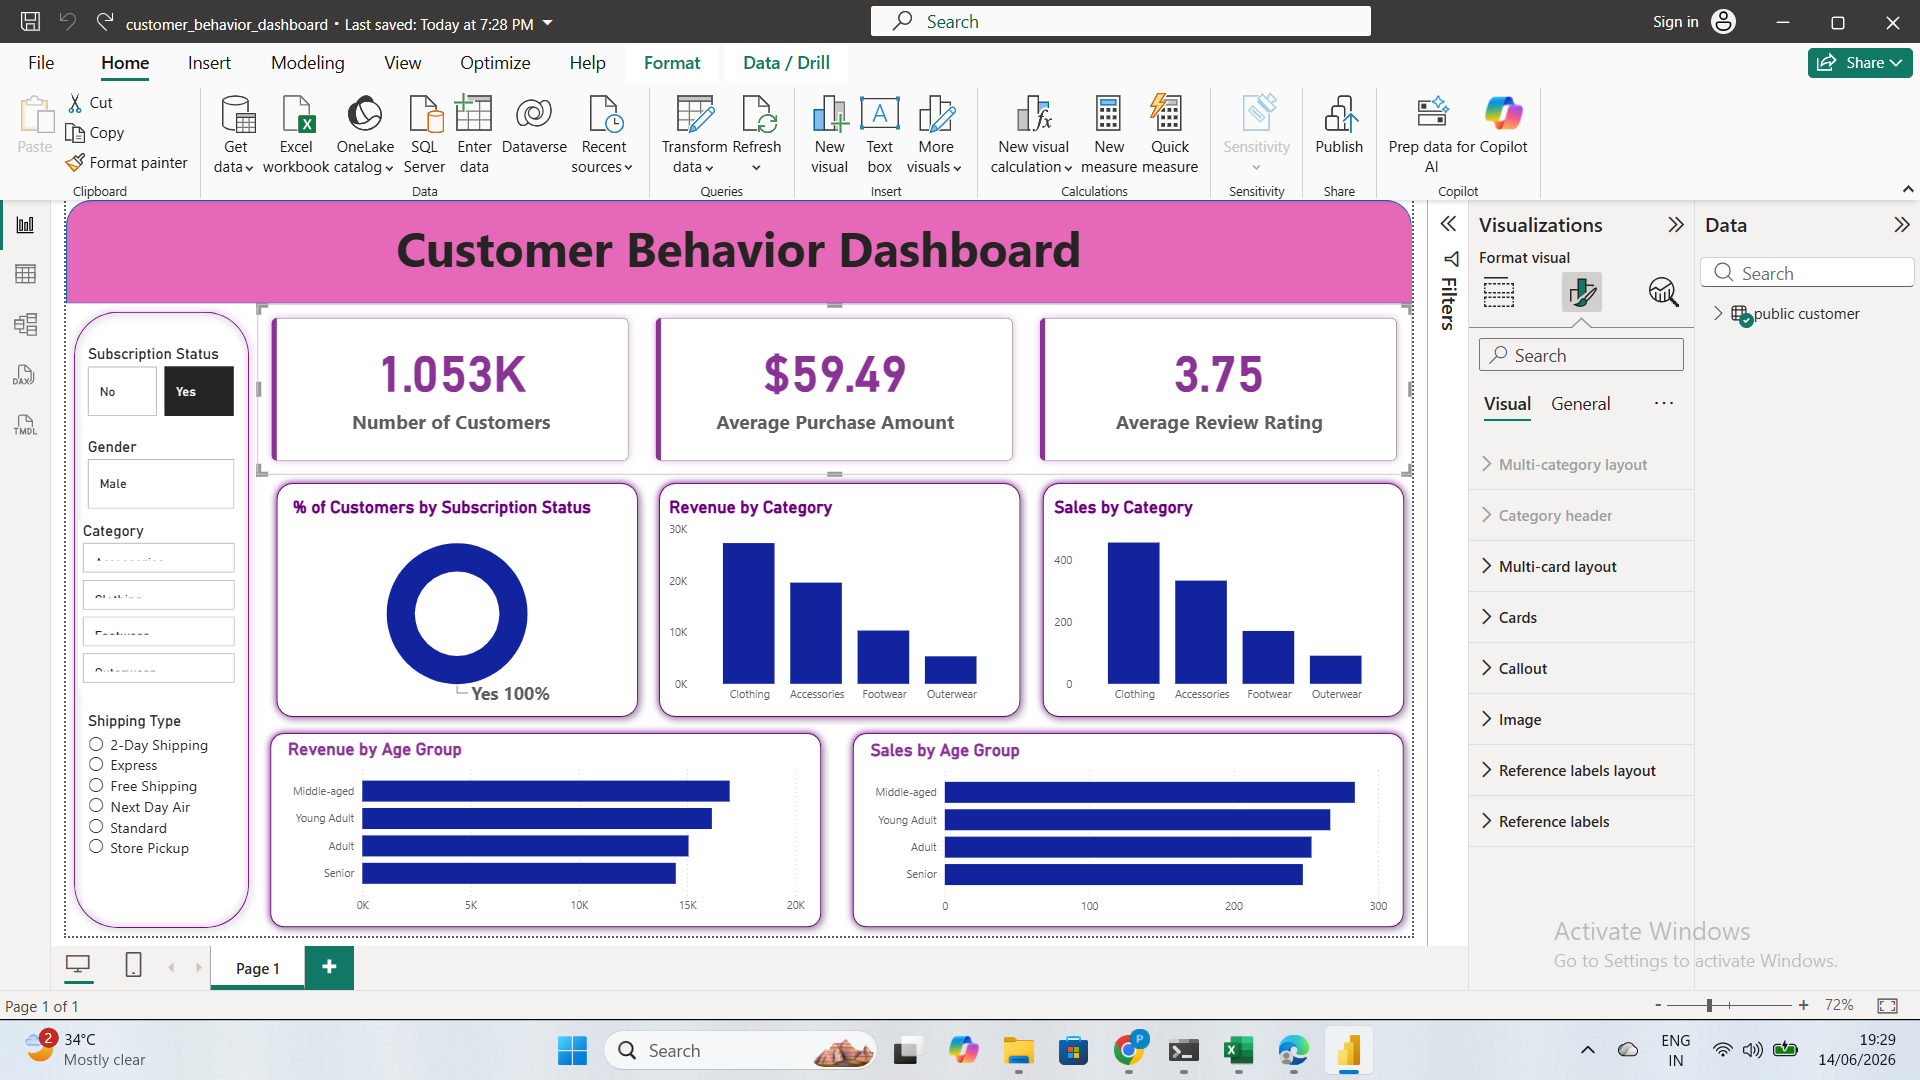

The page's visual inventory and layout, read from the dashboard file:
{"tool":"powerbi","page":{"name":"Page 1","canvas":[1500,820],"ordinal":0},"visuals":[{"type":"cardVisual","fields":{"Data":["public customer.Number of Customers","public customer.Average Purchase Amount","public customer.Average Review Rating"]},"box":[212.9,115.3,1286.5,191.6],"z":2000},{"type":"shape","box":[218.3,585.6,631.7,234.2],"z":2500,"group":"g1"},{"type":"shape","box":[0,0,1499.4,115.3],"z":3000},{"type":"textbox","box":[0,12.4,1499.4,102.9],"z":4000},{"type":"shape","box":[225.4,307,420.5,278.6],"z":5000},{"type":"donutChart","title":"% of Customers by Subscription Status","fields":{"Category":["public customer.subscription_status"],"Y":["CountNonNull(public customer.customer_id)"]},"box":[248.4,331.8,376.2,237.8],"z":6000},{"type":"shape","box":[1078.9,307,420.5,278.6],"z":7000},{"type":"shape","box":[652.1,307,420.5,278.6],"z":8000},{"type":"clusteredColumnChart","title":"Revenue by Category","fields":{"Y":["Sum(public customer.purchase_amount)"],"Category":["public customer.category"]},"box":[667.2,331.8,385.1,237.8],"z":9000},{"type":"clusteredColumnChart","title":"Sales by Category","fields":{"Y":["CountNonNull(public customer.customer_id)"],"Category":["public customer.category"]},"box":[1096.6,331.8,385.1,237.8],"z":10000},{"type":"shape","box":[0,115.3,212.9,704.5],"z":11000},{"type":"advancedSlicerVisual","fields":{"Values":["public customer.subscription_status"]},"box":[19.5,161.5,173.9,85.2],"z":12000},{"type":"advancedSlicerVisual","fields":{"Values":["public customer.gender"]},"box":[19.5,264.4,173.9,85.2],"z":13000},{"type":"advancedSlicerVisual","fields":{"Values":["public customer.category"]},"box":[14.2,358.4,179.2,186.3],"z":14000},{"type":"listSlicer","fields":{"Values":["public customer.shipping_type"]},"box":[19.5,569.6,168.6,220],"z":15000},{"type":"shape","box":[867.7,585.6,631.7,234.2],"z":16000},{"type":"clusteredBarChart","title":"Sales by Age Group","fields":{"Y":["CountNonNull(public customer.customer_id)"],"Category":["public customer.age_group"]},"box":[890.8,601.5,585.6,204.1],"z":17000},{"type":"clusteredBarChart","title":"Revenue by Age Group","fields":{"Y":["Sum(public customer.purchase_amount)"],"Category":["public customer.age_group"]},"box":[241.4,601.6,585.6,204.1],"z":17500,"group":"g1"},{"type":"group","id":"g1","title":"Group 1","box":[218.3,585.6,631.7,234.2],"z":17501}]}

Visuals, with their boxes on the page's 1500x820 design canvas (x1, y1, x2, y2). These are canvas units, not pixel positions in the 1920x1080 screenshot, which may show the page scaled, cropped or inside an application window:
cardVisual - public customer.Number of Customers x public customer.Average Purchase Amount: [213, 115, 1499, 307]
shape: [218, 586, 850, 820]
shape: [0, 0, 1499, 115]
textbox: [0, 12, 1499, 115]
shape: [225, 307, 646, 586]
"% of Customers by Subscription Status" donutChart: [248, 332, 625, 570]
shape: [1079, 307, 1499, 586]
shape: [652, 307, 1073, 586]
"Revenue by Category" clusteredColumnChart: [667, 332, 1052, 570]
"Sales by Category" clusteredColumnChart: [1097, 332, 1482, 570]
shape: [0, 115, 213, 820]
advancedSlicerVisual - public customer.subscription_status: [20, 162, 193, 247]
advancedSlicerVisual - public customer.gender: [20, 264, 193, 350]
advancedSlicerVisual - public customer.category: [14, 358, 193, 545]
listSlicer - public customer.shipping_type: [20, 570, 188, 790]
shape: [868, 586, 1499, 820]
"Sales by Age Group" clusteredBarChart: [891, 602, 1476, 806]
"Revenue by Age Group" clusteredBarChart: [241, 602, 827, 806]
"Group 1" group: [218, 586, 850, 820]
